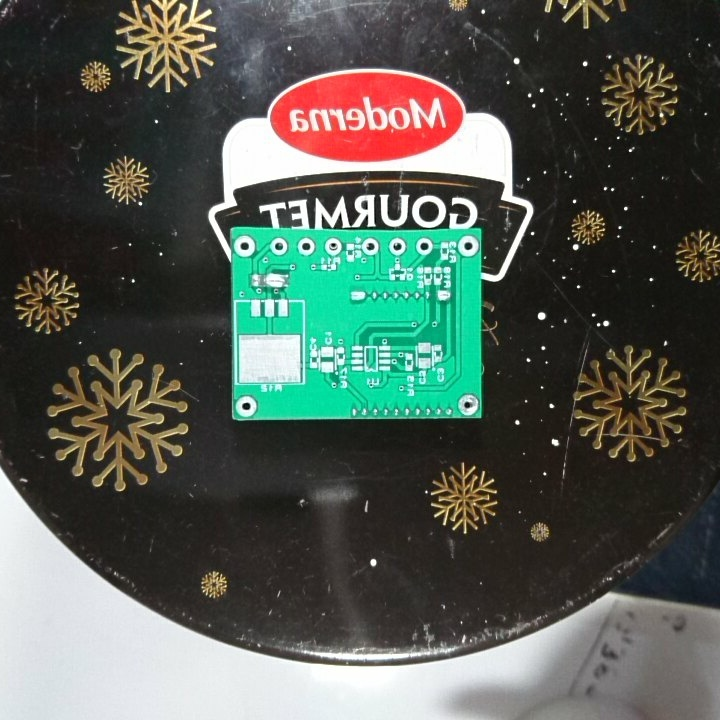F: (232, 232, 259, 259), (454, 390, 481, 417), (234, 393, 260, 418), (456, 233, 480, 258), (386, 236, 409, 259), (414, 235, 436, 258), (295, 236, 317, 258), (268, 235, 289, 258), (360, 236, 380, 258), (322, 237, 343, 257)
P: (263, 269, 292, 291), (346, 288, 369, 304), (434, 287, 453, 304)
